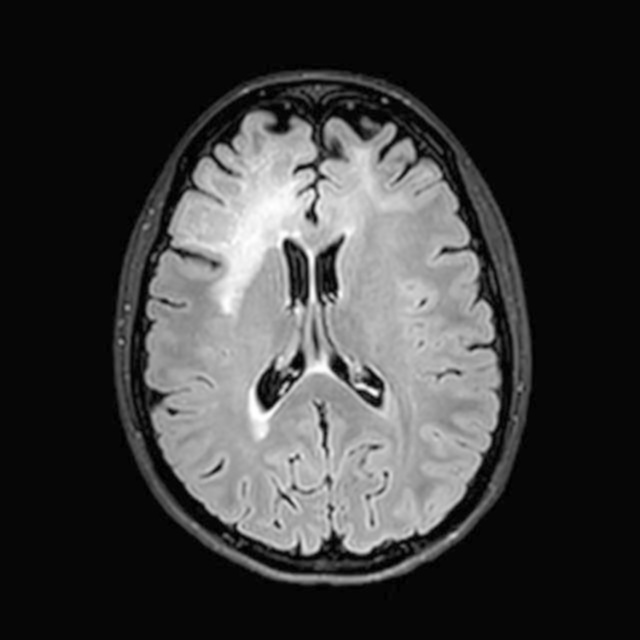glioma tumor: (197, 136, 455, 500)
